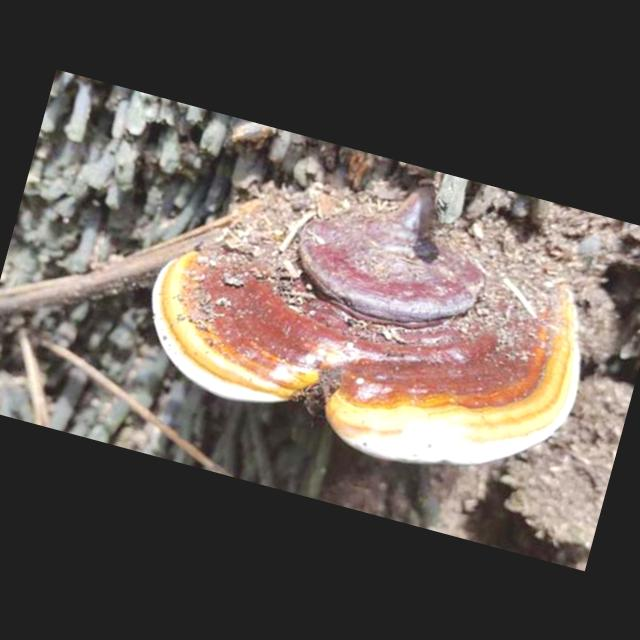ganoderma: (125, 128, 620, 508)
